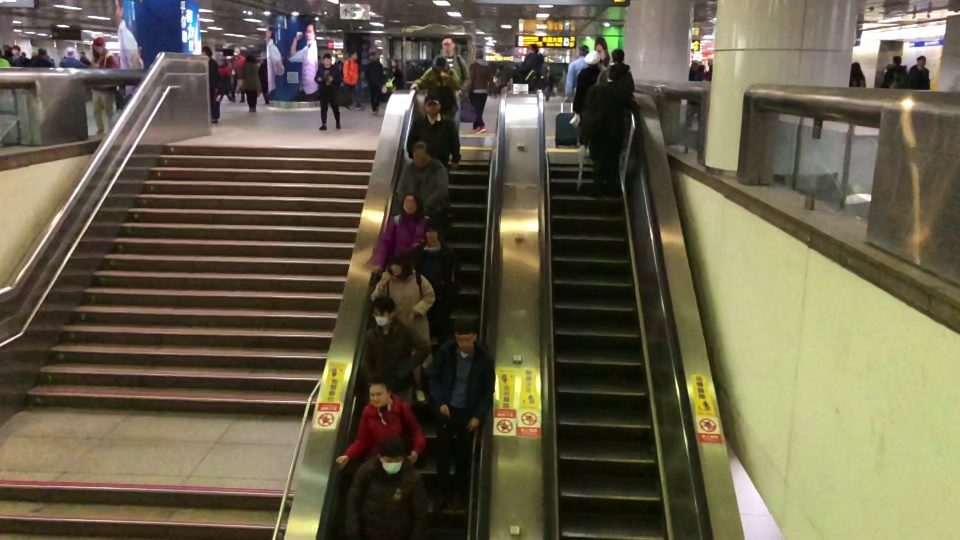person_head: (376, 438, 407, 474), (370, 296, 398, 325), (454, 324, 478, 352), (368, 380, 392, 407), (387, 253, 410, 276), (420, 94, 440, 116), (403, 193, 419, 214), (433, 56, 452, 73), (423, 223, 442, 240), (413, 142, 428, 162), (583, 50, 601, 66), (91, 36, 107, 53), (440, 36, 455, 53), (605, 67, 619, 83), (609, 48, 626, 61), (574, 44, 589, 56), (201, 45, 214, 57), (244, 52, 257, 64), (321, 53, 334, 65), (64, 45, 76, 57), (474, 50, 487, 61), (850, 61, 861, 74), (915, 55, 927, 66), (527, 44, 541, 53), (892, 55, 905, 64), (369, 51, 378, 63), (11, 45, 21, 54), (232, 46, 241, 55), (349, 51, 358, 60), (221, 56, 229, 64), (261, 56, 268, 65), (79, 50, 86, 58), (390, 58, 397, 66), (37, 47, 43, 55)
person_vbox: (438, 324, 493, 516), (368, 253, 435, 402), (341, 437, 431, 539), (333, 382, 421, 469), (359, 297, 416, 411), (410, 224, 466, 333), (581, 68, 624, 197), (406, 93, 466, 169), (395, 143, 451, 223), (425, 56, 463, 168), (570, 51, 607, 158), (86, 36, 118, 134), (385, 193, 428, 252), (313, 54, 343, 131), (562, 44, 602, 101), (466, 50, 492, 135), (200, 45, 223, 125), (340, 50, 364, 113), (519, 44, 549, 91), (607, 49, 638, 94), (243, 51, 260, 113), (368, 50, 382, 118), (907, 56, 931, 91), (231, 45, 245, 104), (218, 56, 233, 104), (59, 46, 87, 70), (257, 57, 271, 105), (387, 58, 406, 91), (29, 47, 54, 69), (850, 61, 868, 88), (892, 56, 907, 87), (8, 45, 26, 66), (78, 50, 92, 69)
